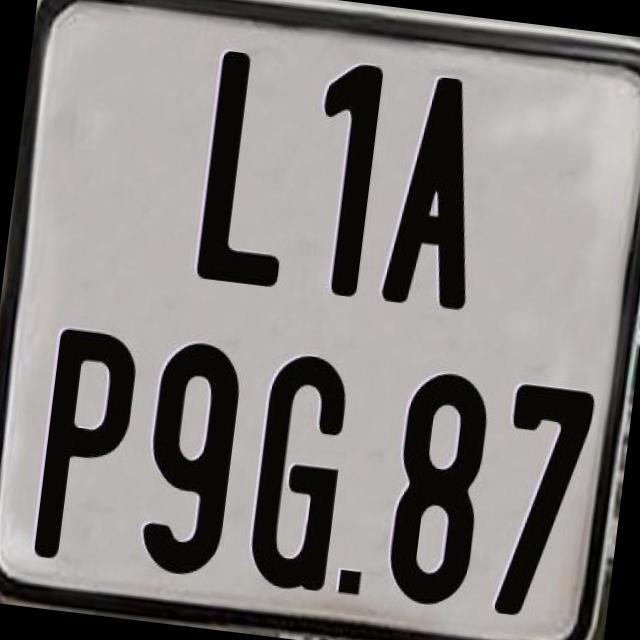1: (296, 58, 384, 300)
7: (484, 381, 598, 624)
8: (383, 368, 493, 613)
9: (132, 336, 244, 581)
A: (380, 72, 492, 314)
G: (246, 352, 356, 596)
L: (194, 48, 304, 288)
P: (33, 324, 141, 567)
